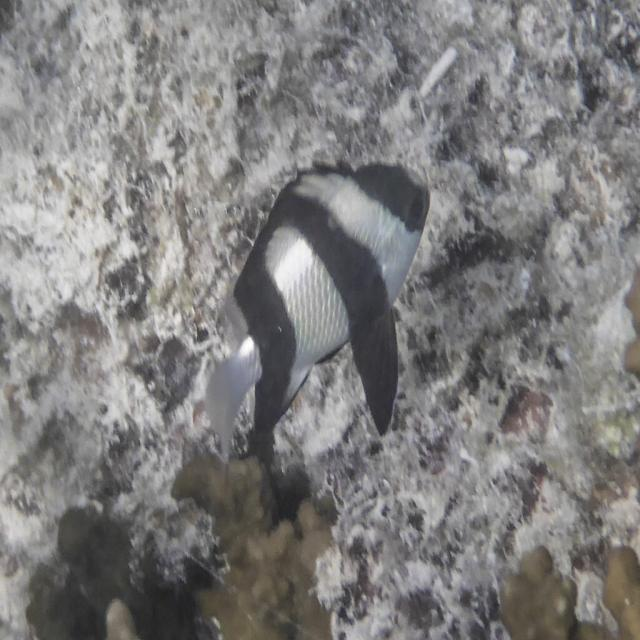Three_striped DasmselFish: (206, 160, 431, 450)
